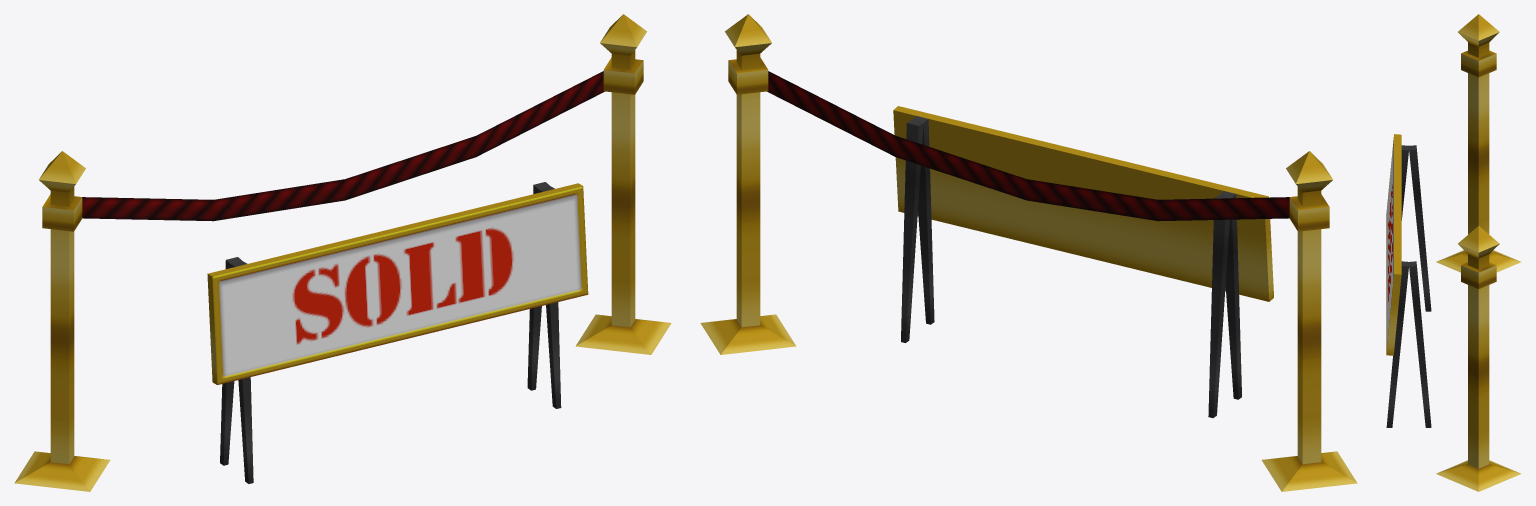
Rendered from Storefront_SOLD.fbx.
3 renders of one model, left to right at view 1: azimuth 30°, elevation 25°; view 2: azimuth 150°, elevation 25°; view 3: azimuth 270°, elevation 25°, orthographic. The views are drawn at different scales.
Visible parts, largest first — view 1: Hall.001; view 2: Hall.001; view 3: Hall.001.
Part boxes in pixels (left/top/right/bottom): Hall.001: left=14, top=14, right=671, bottom=491; Hall.001: left=700, top=14, right=1357, bottom=491; Hall.001: left=1386, top=14, right=1521, bottom=491.
Size of the model in its own units: 277 by 129 by 63.92.
